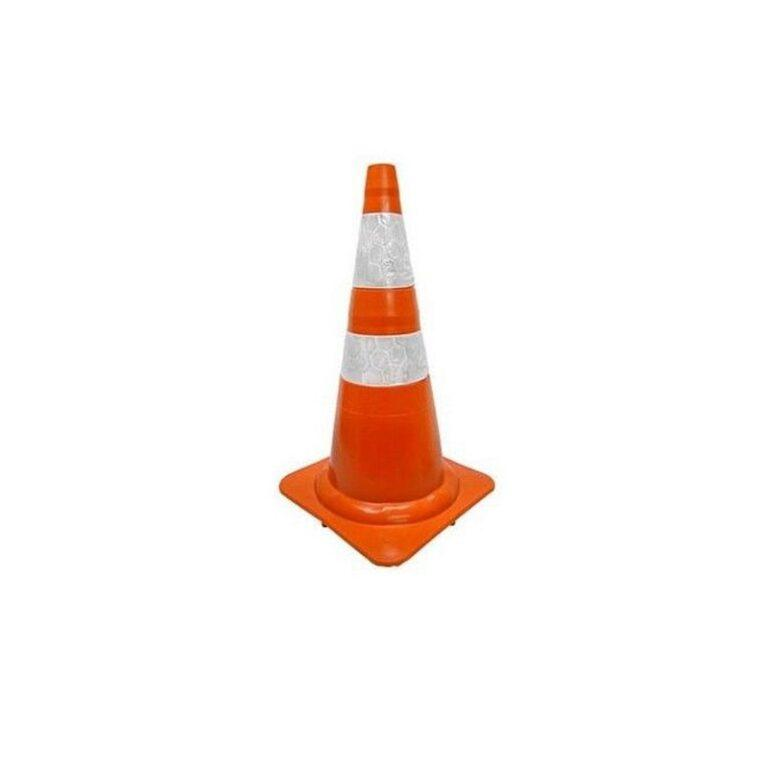traffic_cone: (278, 161, 496, 567)
